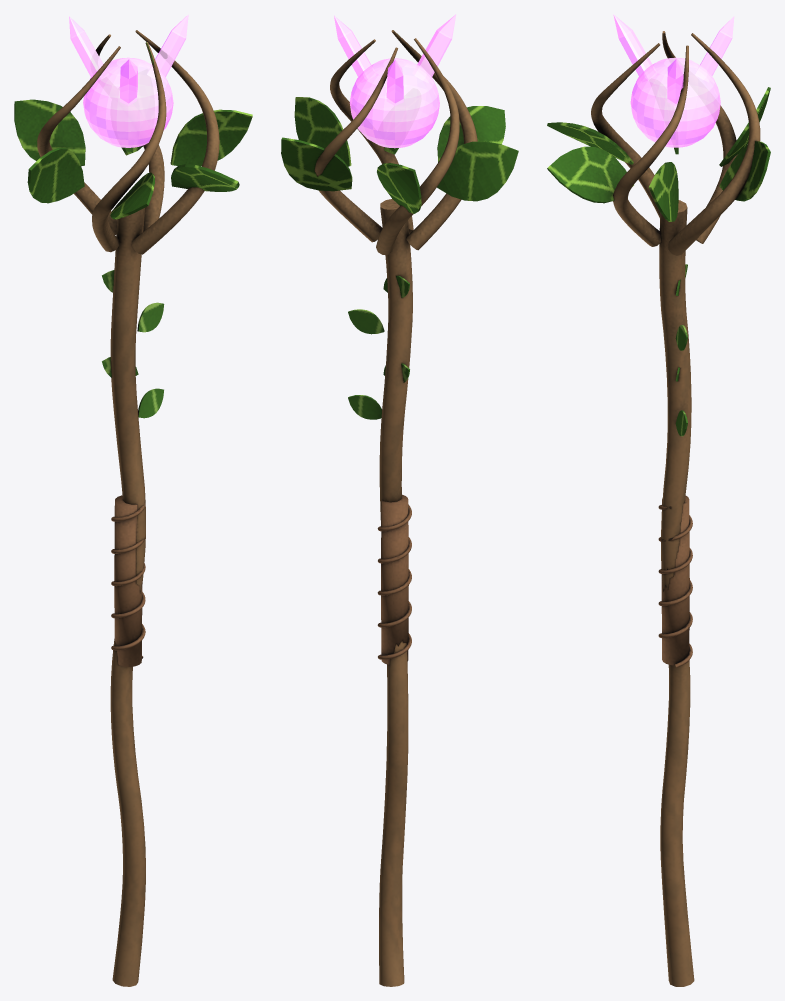
The model's file is arma_lend_foco_natural_vazio.glb.
3 views of the same model, side by side, from view 1: azimuth 30°, elevation 25°; view 2: azimuth 150°, elevation 25°; view 3: azimuth 270°, elevation 25° (orthographic).
Visible parts, largest first — view 1: arma_lend_foco_natural_vazio, Sphere, brot0, brot1, brot2; view 2: arma_lend_foco_natural_vazio, Sphere, brot2, brot0, brot1; view 3: arma_lend_foco_natural_vazio, Sphere, brot2, brot1, brot0.
Part boxes in pixels (box(x1,y1,x2,y2)): arma_lend_foco_natural_vazio: box(14, 30, 252, 986); Sphere: box(83, 57, 173, 147); brot0: box(147, 14, 188, 82); brot1: box(69, 16, 108, 81); brot2: box(119, 59, 137, 105); arma_lend_foco_natural_vazio: box(281, 30, 518, 986); Sphere: box(349, 58, 439, 148); brot2: box(413, 14, 456, 82); brot0: box(334, 15, 375, 82); brot1: box(386, 59, 403, 105); arma_lend_foco_natural_vazio: box(547, 31, 770, 986); Sphere: box(630, 57, 720, 147); brot2: box(613, 14, 656, 81); brot1: box(695, 16, 734, 81); brot0: box(667, 59, 683, 105).
Bounding box in the file's own units: 0.4367 × 1.78 × 0.3793.
Materials: 5 (1 with a texture image).
